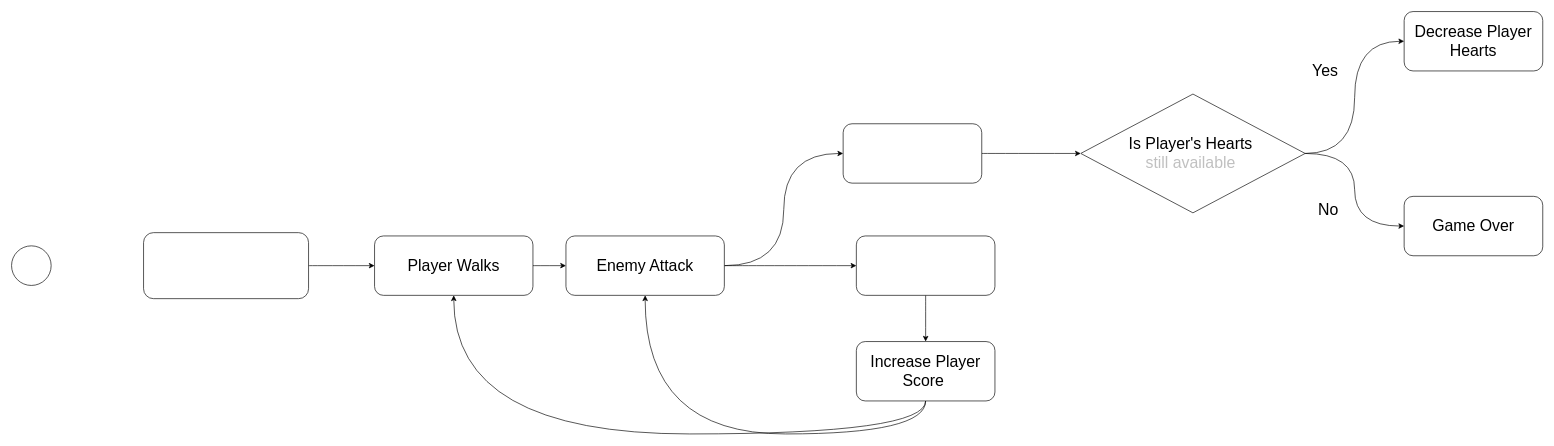
This 1554x446 diagram has some shape labels left out. The centre of each missing label's shape, as x and y in pixels:
Player Crash Enemy: the point at 912,153
Player Jump Enemy: the point at 925,265
Start Button: the point at 226,265
